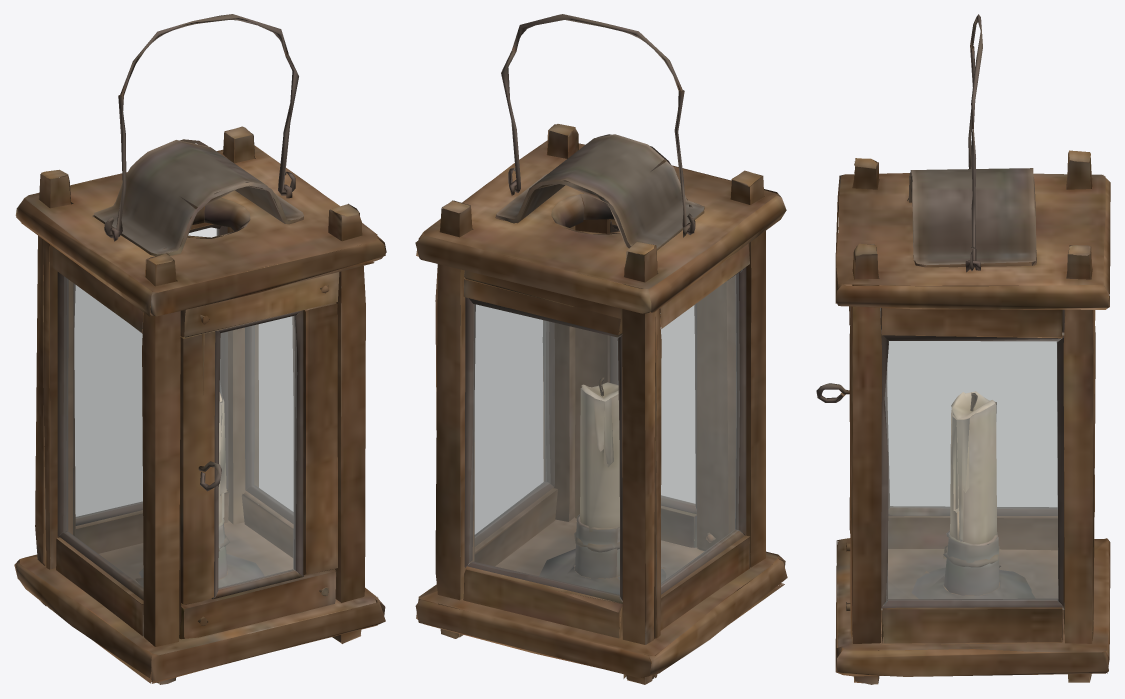
The model's file is lantern_wood.glb.
The picture shows the model from 3 angles, left to right: view 1: azimuth 30°, elevation 25°; view 2: azimuth 150°, elevation 25°; view 3: azimuth 270°, elevation 25°; orthographic projection.
Visible parts, largest first — view 1: wooden_lantern_01, wooden_lantern_01_door, wooden_lantern_01_handle; view 2: wooden_lantern_01, wooden_lantern_01_door, wooden_lantern_01_handle; view 3: wooden_lantern_01, wooden_lantern_01_handle, wooden_lantern_01_door.
Boxes of the visible parts, left/top/right/bottom form: wooden_lantern_01: left=14, top=126, right=386, bottom=684; wooden_lantern_01_door: left=179, top=272, right=339, bottom=639; wooden_lantern_01_handle: left=104, top=14, right=298, bottom=238; wooden_lantern_01: left=415, top=124, right=787, bottom=684; wooden_lantern_01_door: left=575, top=219, right=728, bottom=550; wooden_lantern_01_handle: left=501, top=14, right=695, bottom=234; wooden_lantern_01: left=835, top=150, right=1110, bottom=684; wooden_lantern_01_handle: left=968, top=14, right=982, bottom=270; wooden_lantern_01_door: left=816, top=306, right=850, bottom=610.
Bounding box in the file's own units: 0.2209 × 0.5277 × 0.2334.
Materials: 2 (1 with a texture image).
